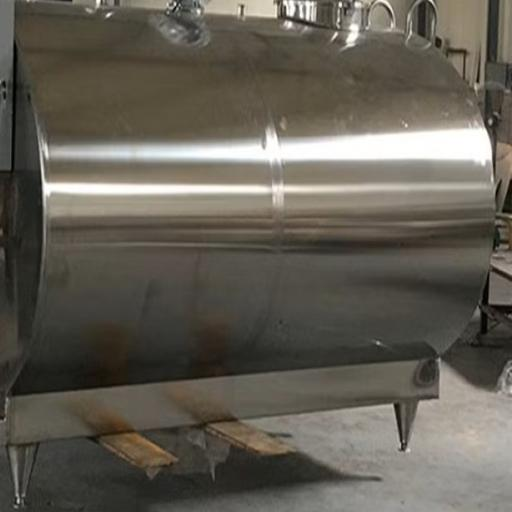silo: (0, 0, 495, 504)
